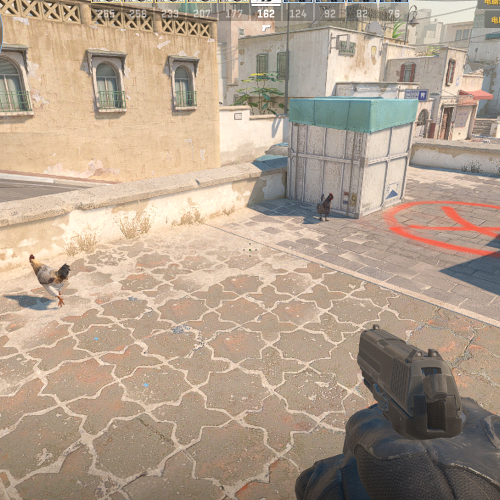chicken: (27, 253, 73, 307), (316, 192, 334, 222)
